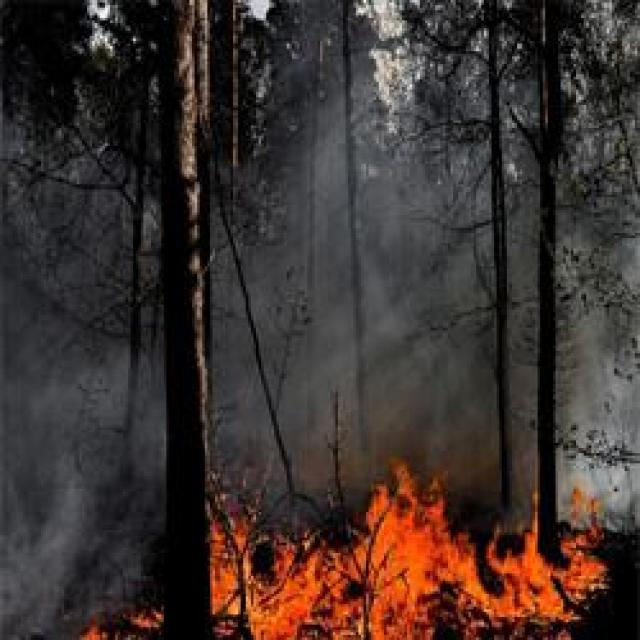fire: (213, 487, 607, 640), (84, 607, 166, 640)
smoke: (298, 128, 442, 456), (4, 408, 109, 640), (568, 288, 640, 527)
